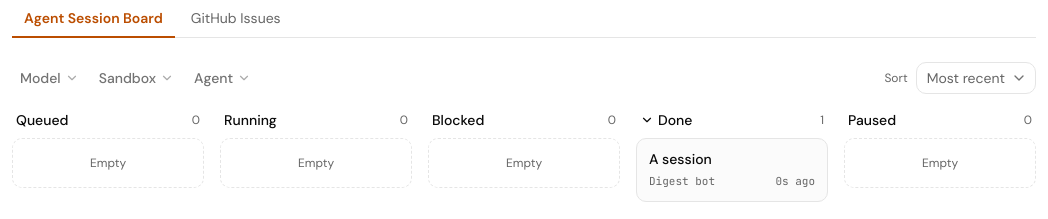
Test: <KanbanBoard /> › collapses the Done column and remembers it
Click the button "Done" at (666, 120), box [640,110,692,130]
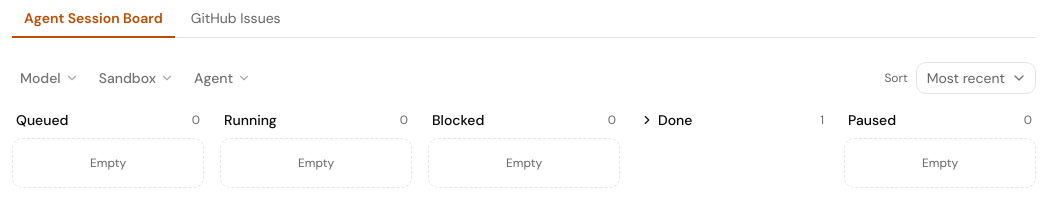
Now the button "Done" is collapsed, box [640,110,692,130]
Now the button with test id "kanban-session-card" is gone
